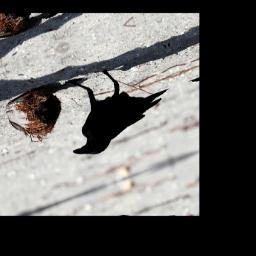Crow: (52, 47, 180, 162)
